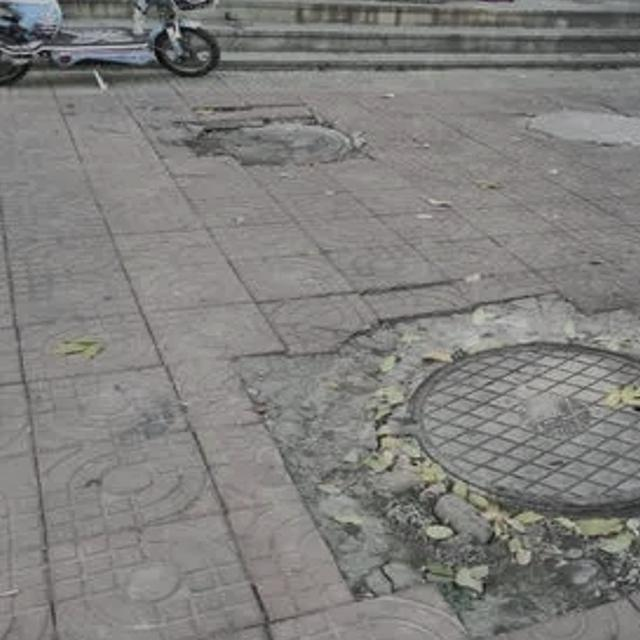circle: (261, 291, 640, 627)
